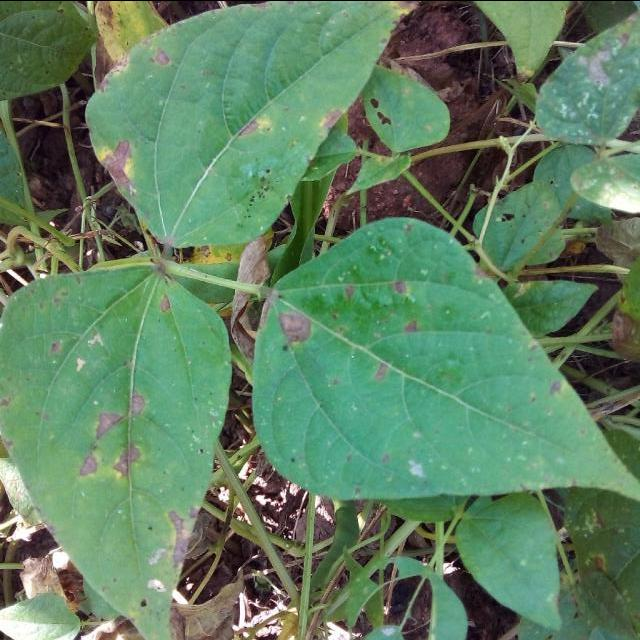embun tepung: (210, 208, 523, 640)
